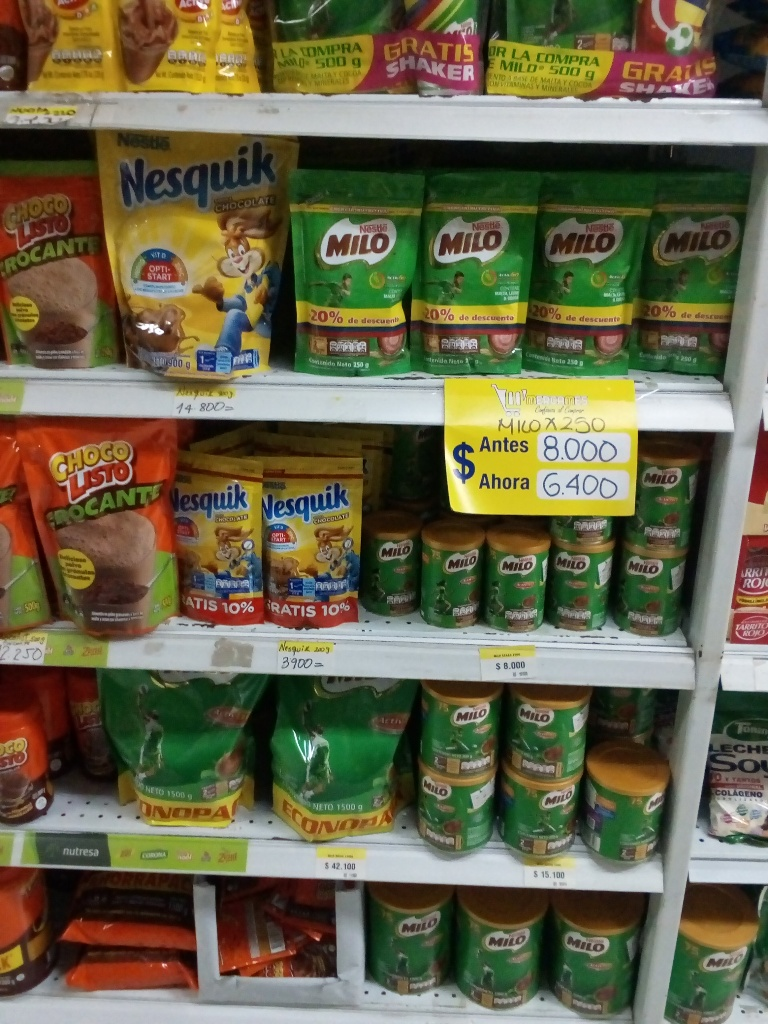COL0170102DYP50000: (13, 415, 174, 629)
COL0170103TRR30000: (2, 694, 50, 829)
COL0170203LAT20000: (364, 515, 424, 622)
